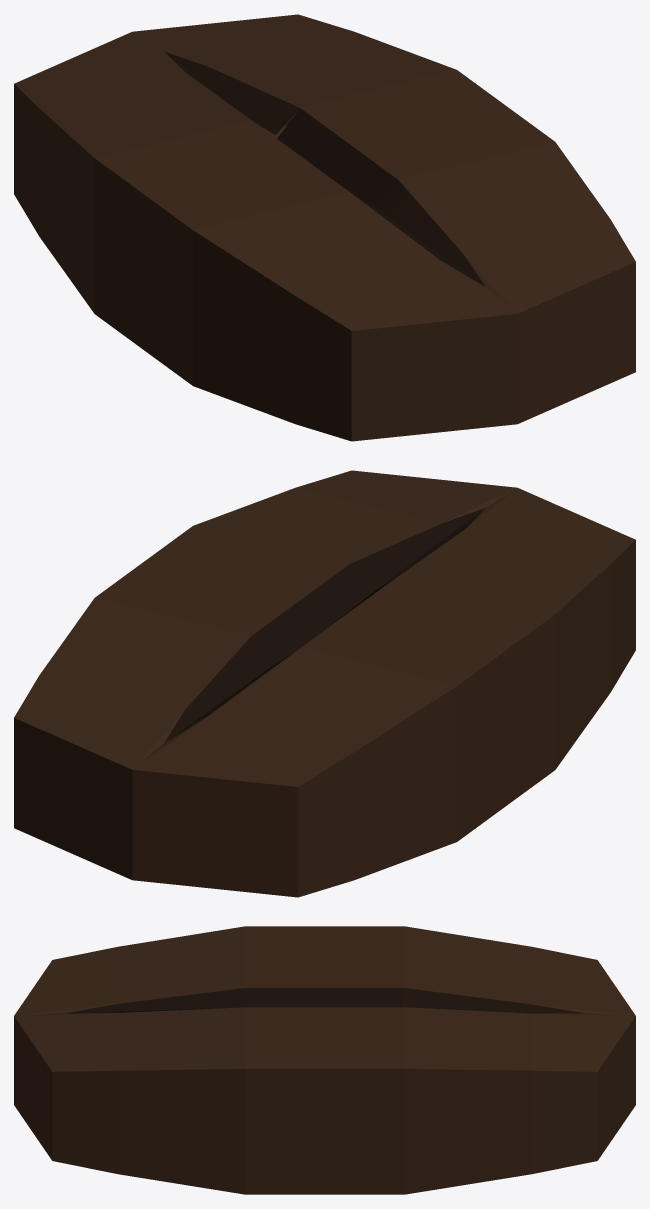
Rendered from bean.fbx.
3 renders of one model, top to bottom at view 1: azimuth 30°, elevation 25°; view 2: azimuth 150°, elevation 25°; view 3: azimuth 270°, elevation 25°, orthographic. The views are drawn at different scales.
Parts seen in each view (by area): view 1: Cube; view 2: Cube; view 3: Cube.
Part boxes in pixels (x1,y1,x2,y2): Cube: (14, 14, 635, 441); Cube: (14, 470, 635, 897); Cube: (14, 926, 635, 1194).
Bounding box in the file's own units: 4.28 × 1.76 × 7.89.
